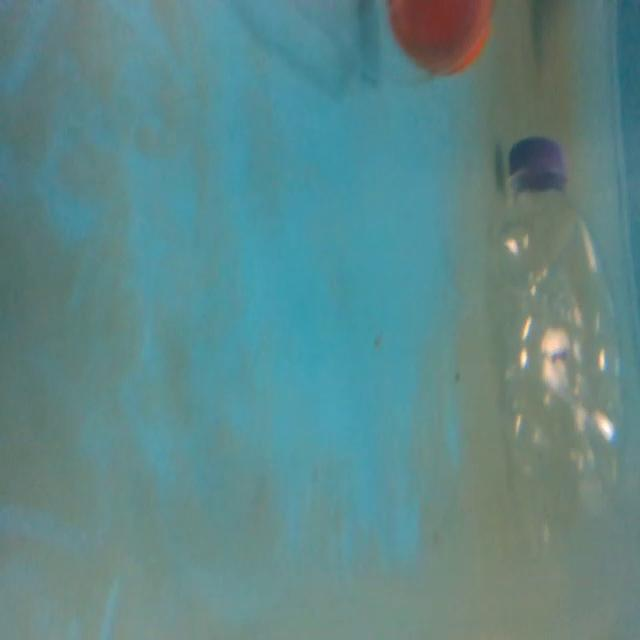plastic bottle: (486, 131, 640, 557)
